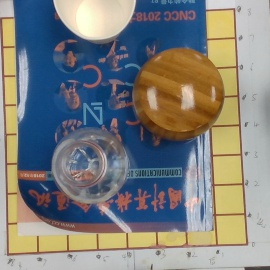bottle: (50, 129, 130, 205)
chess: (131, 47, 225, 144)
cup: (53, 1, 136, 47)
